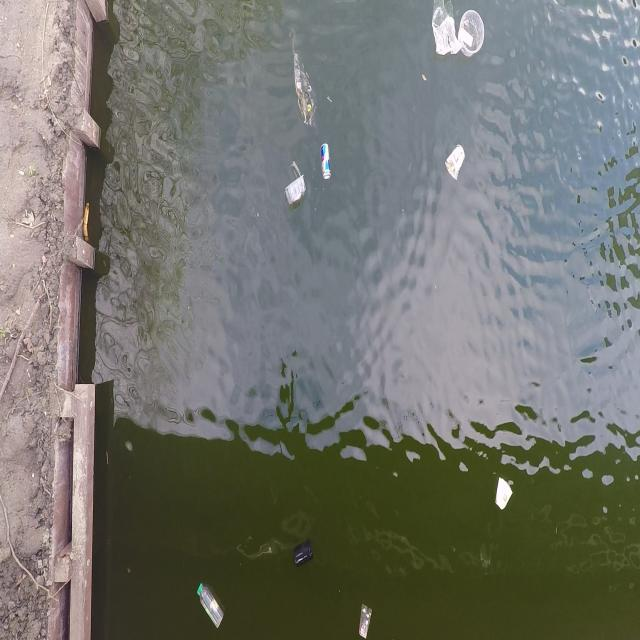Autre plastique: (459, 0, 486, 62), (280, 158, 310, 212)
Bouteille plastique: (194, 576, 228, 634)
Non plastique: (492, 472, 517, 519), (443, 139, 468, 181), (355, 596, 377, 640), (317, 137, 336, 184)
Sac plastique: (287, 26, 320, 126), (426, 0, 459, 61)
